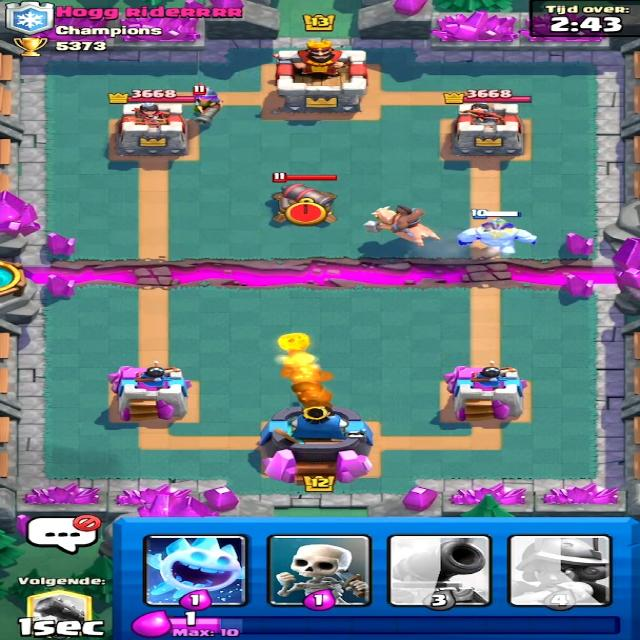Cannon_Card: (387, 535, 481, 606)
Enemy_Musketeer_Troop: (179, 86, 223, 129)
Fireball_Troop: (270, 329, 318, 369)
Hog_Rider_Troop: (357, 202, 444, 251)
Ice_Golem_Troop: (456, 220, 542, 256)
Ice_Spirit_Card: (144, 535, 248, 604)
Musketeer_Card: (512, 535, 612, 606)
Skeleton_Card: (266, 537, 372, 608)
